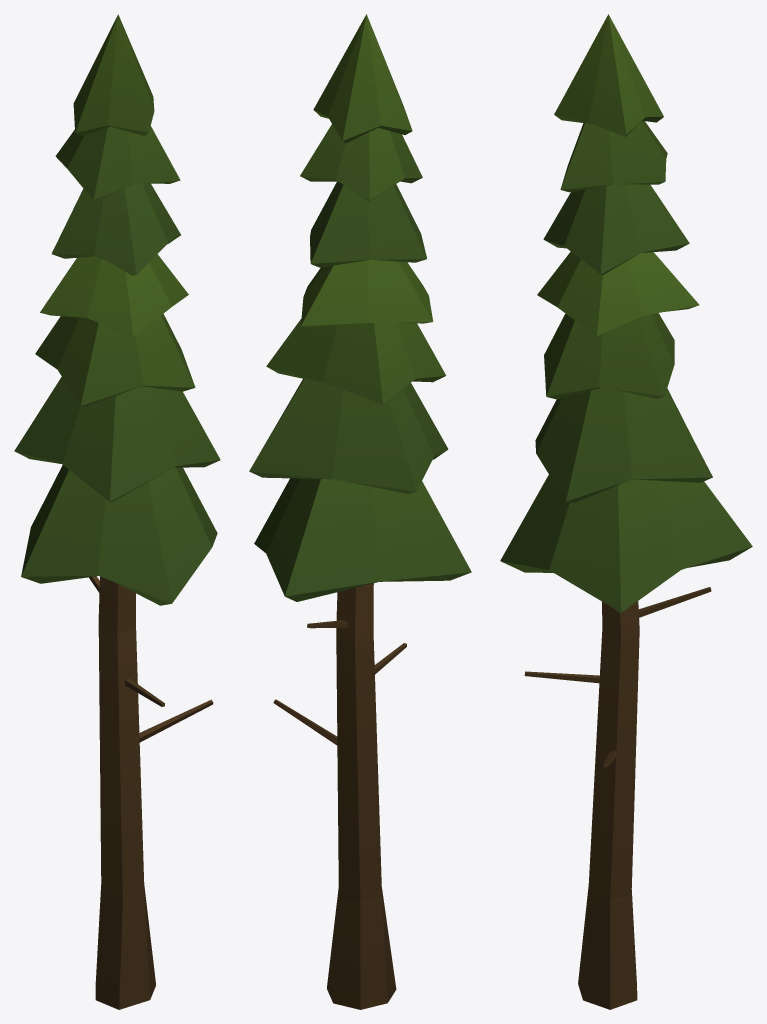
Rendered from Tree_02.fbx.
3 renders of one model, left to right at view 1: azimuth 30°, elevation 25°; view 2: azimuth 150°, elevation 25°; view 3: azimuth 270°, elevation 25°, orthographic.
Visible parts, largest first — view 1: Tree_02; view 2: Tree_02; view 3: Tree_02.
Boxes of the visible parts, left/top/right/bottom form: Tree_02: left=14, top=14, right=220, bottom=1009; Tree_02: left=249, top=14, right=471, bottom=1009; Tree_02: left=500, top=14, right=752, bottom=1009.
Size of the model in its own units: 1.45 by 6.55 by 1.54.
